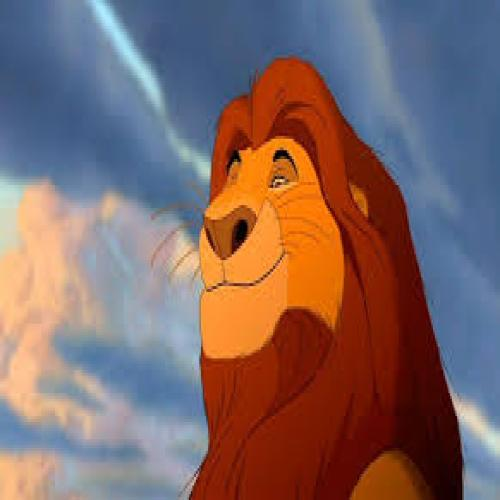lion-endangered: (186, 54, 464, 497)
